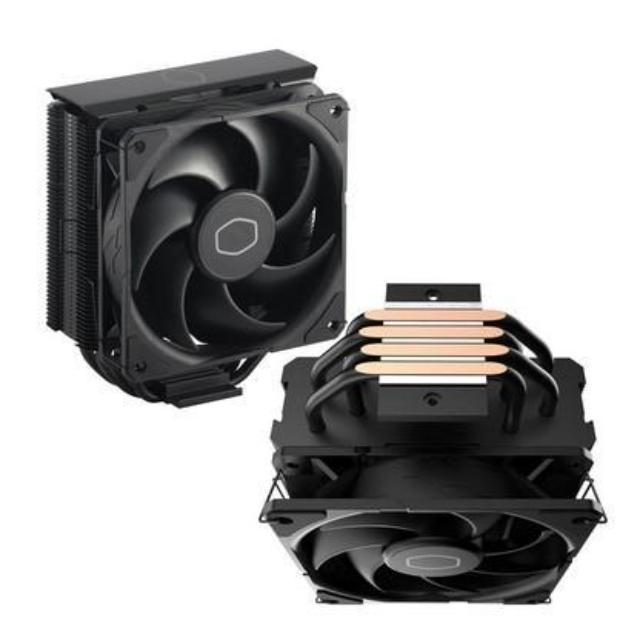CPU_Fan: (38, 47, 344, 404), (272, 279, 600, 612)
